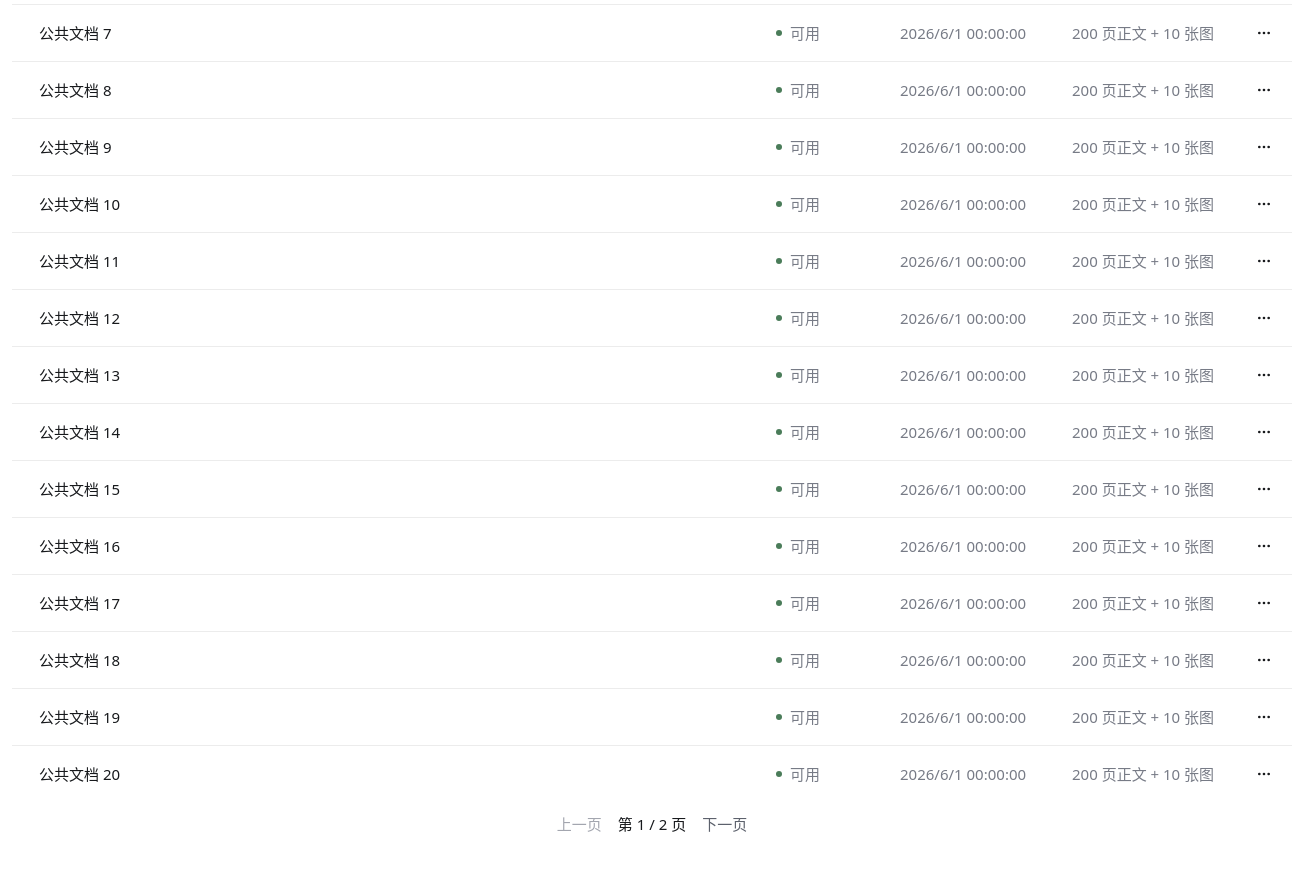
Test: 公共库（§7.2 ops / §7.3 admin） › 空间文档按服务端总数提供下一页
(page scrolled)
Click the button "下一页" at {"x": 725, "y": 824}, box [702,814,747,834]
(page scrolled)
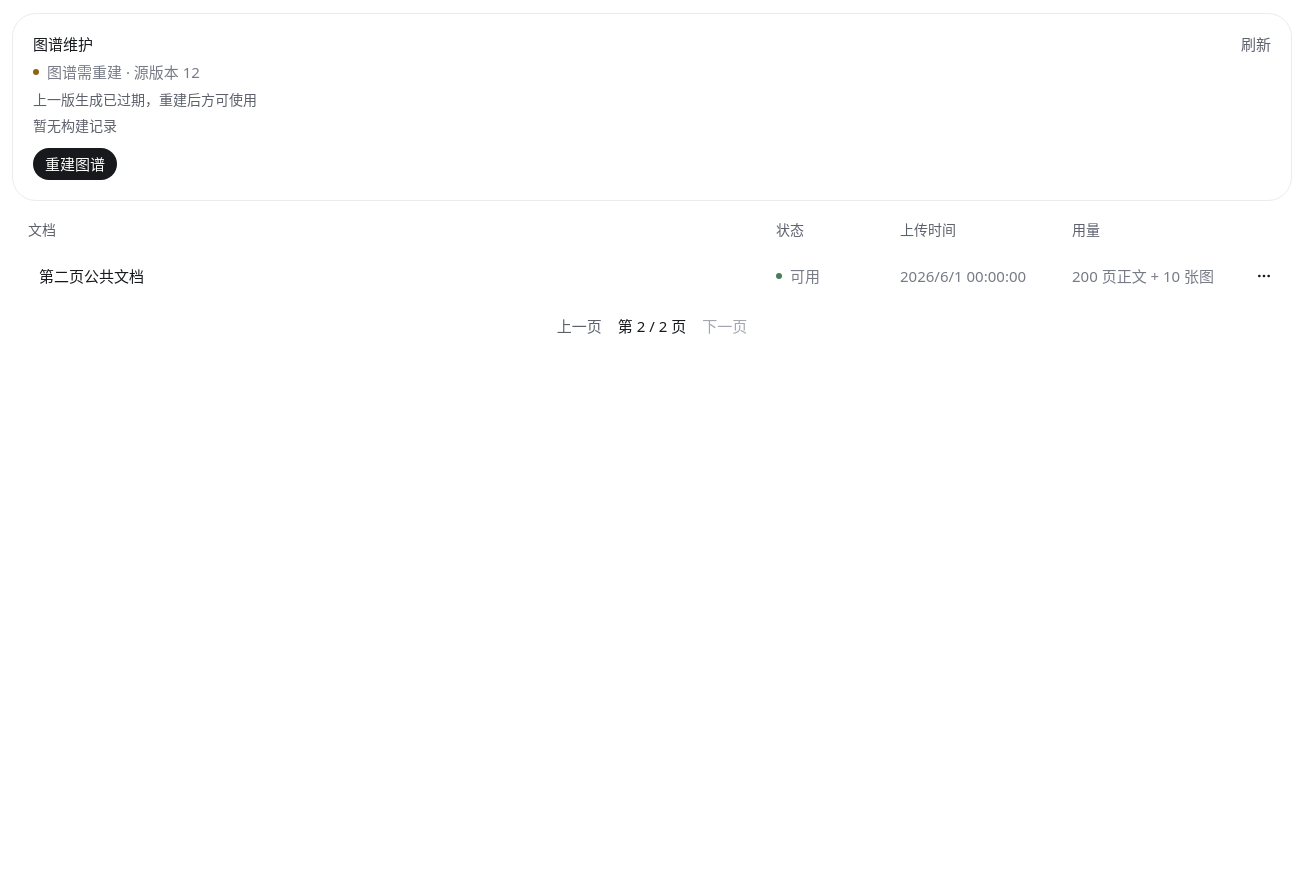
Now the button "第二页公共文档" is shown, box [28,261,155,291]
